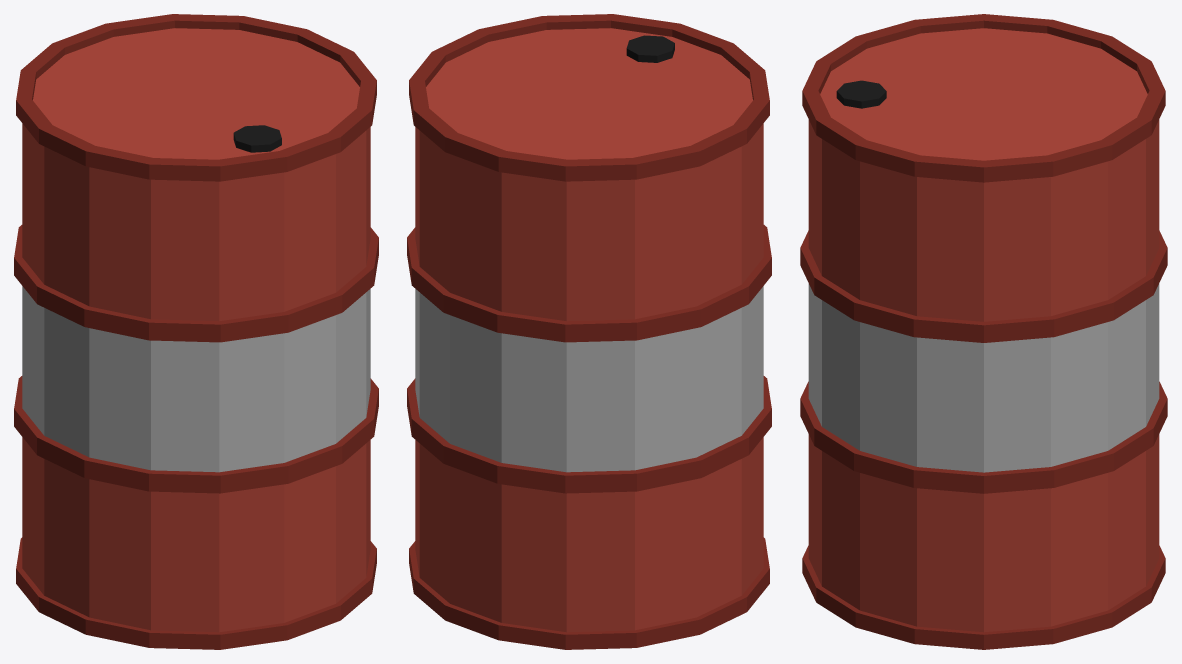
The model's file is Barrel_03.fbx.
3 renders of one model, left to right at view 1: azimuth 30°, elevation 25°; view 2: azimuth 150°, elevation 25°; view 3: azimuth 270°, elevation 25°, orthographic.
Parts seen in each view (by area): view 1: Barrel_03; view 2: Barrel_03; view 3: Barrel_03.
Boxes of the visible parts, <box> form: Barrel_03: <box>14,14,378,649</box>; Barrel_03: <box>407,14,771,649</box>; Barrel_03: <box>800,14,1167,649</box>.
Bounding box in the file's own units: 60.7 × 88 × 60.7.
